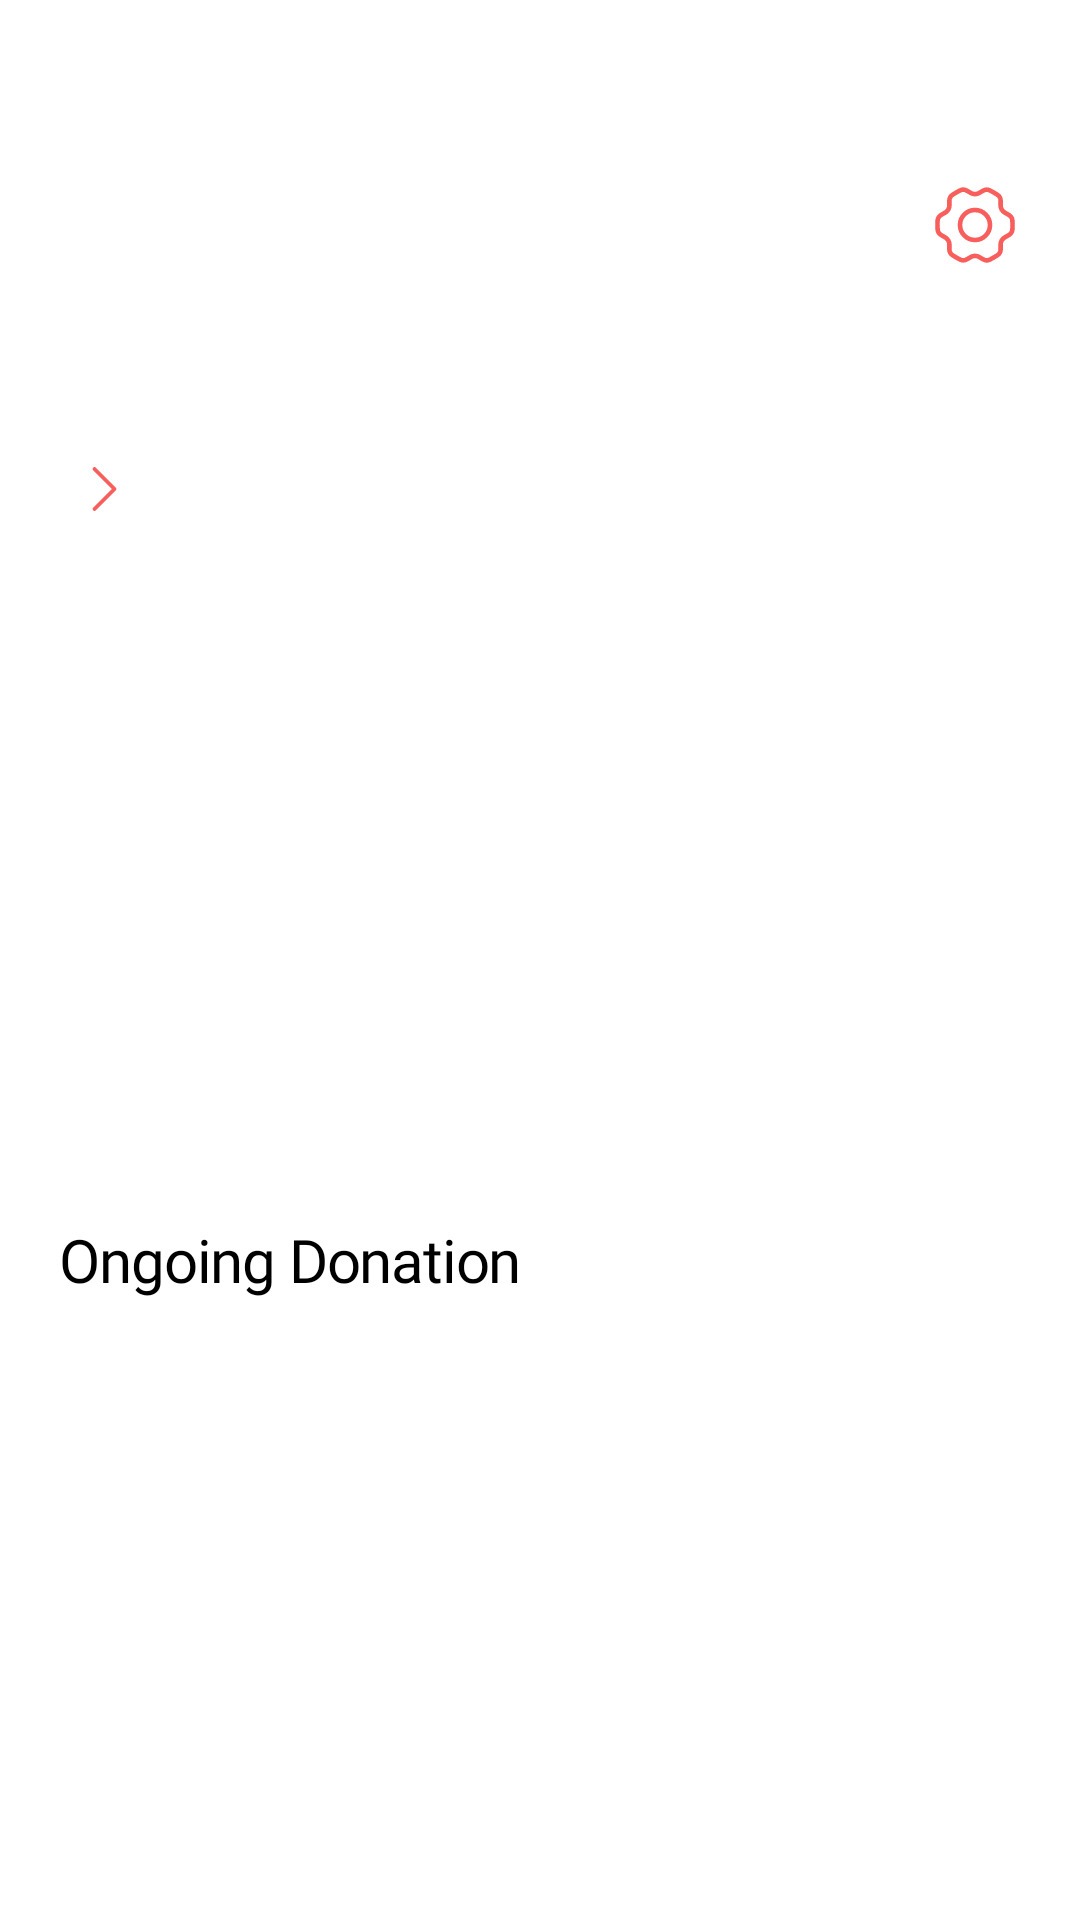

Icons on this 1080px×1920px Android screen, each with its box as (x1=x1, y1=y1, x2=x2, y2=y2):
마이페이지 기부 내역 버튼: (x1=92, y1=467, x2=117, y2=511)
마이페이지 설정 버튼: (x1=935, y1=187, x2=1015, y2=263)
